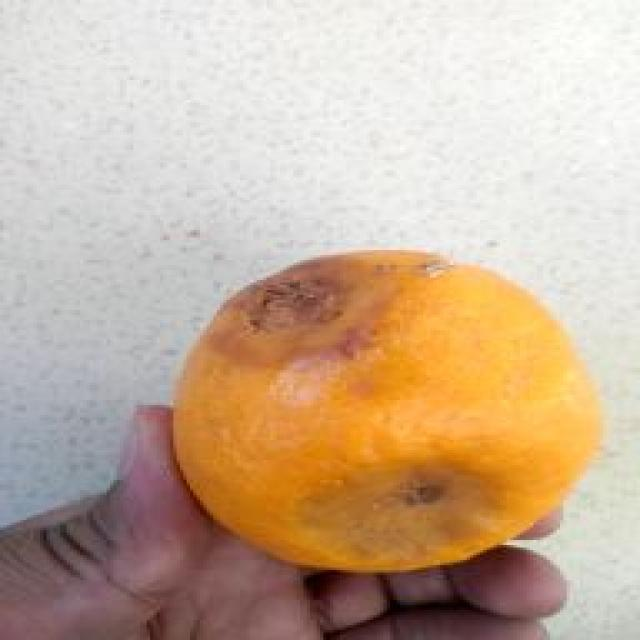Bad_Orange: (175, 250, 598, 572)
